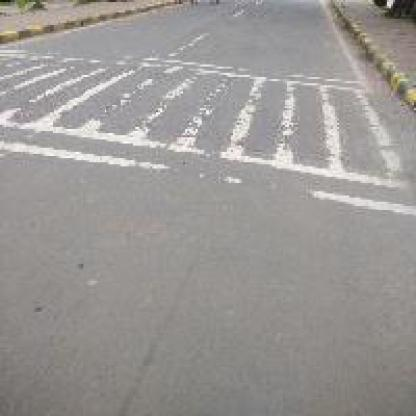Speed Bump: (2, 50, 397, 210)
